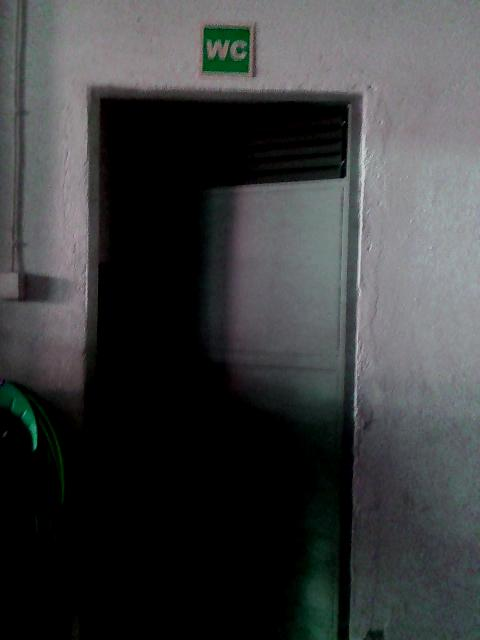closed_door: (83, 86, 364, 639)
